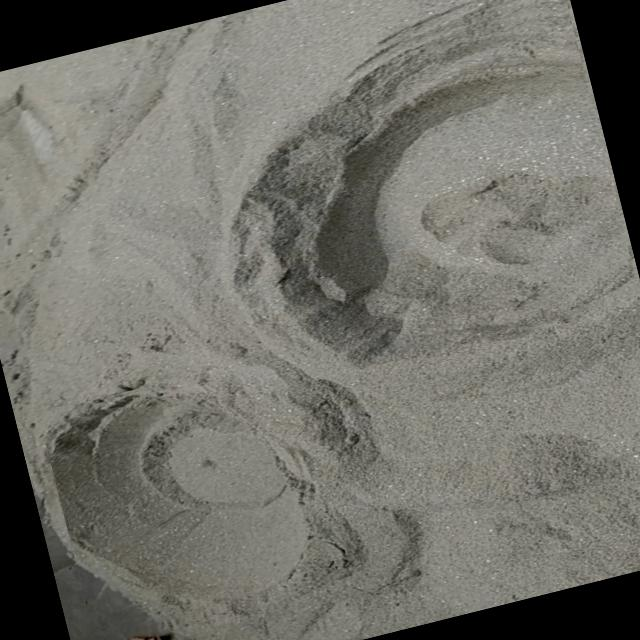C20: (232, 19, 632, 369), (48, 392, 327, 604)
